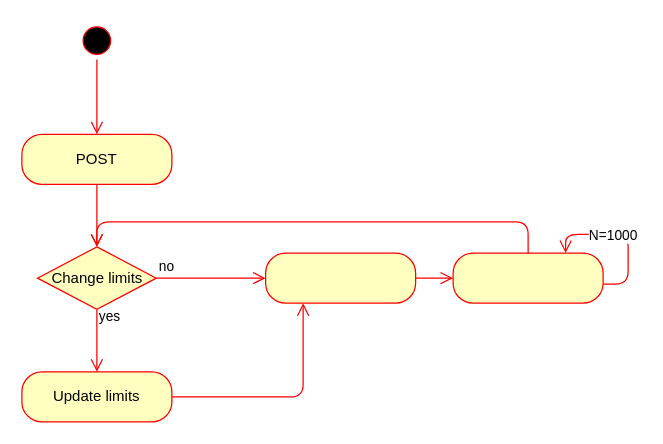
Some shapes in this 663 by 444 pixel diagram are drawn without their labels. The shapes that lost their labels are listed below. From the top down, each one's centre as x and y in pixels, then its label:
point (340, 277): Reference measurement
point (527, 277): Timer samples
